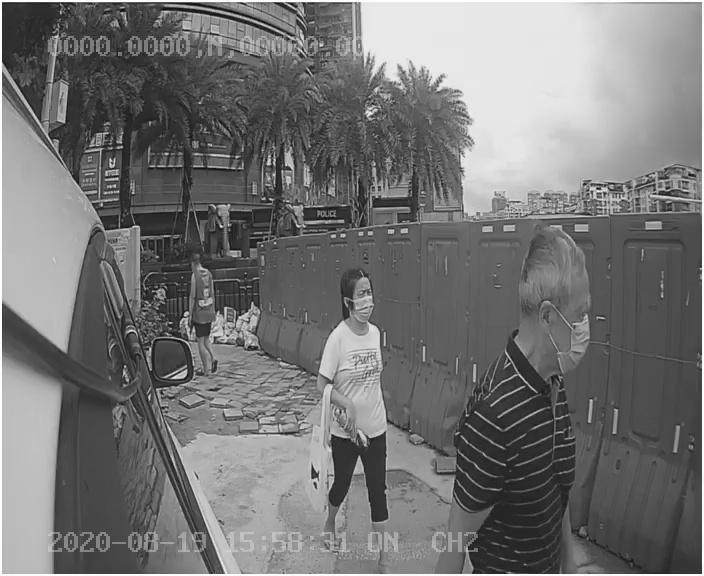person: (299, 264, 415, 530)
